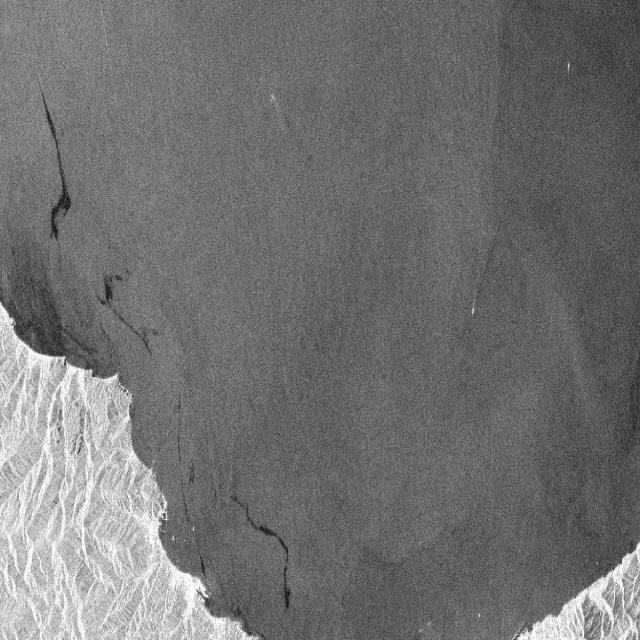oil-spill: (228, 485, 295, 617), (34, 79, 79, 247), (175, 398, 212, 582), (95, 261, 156, 359)
